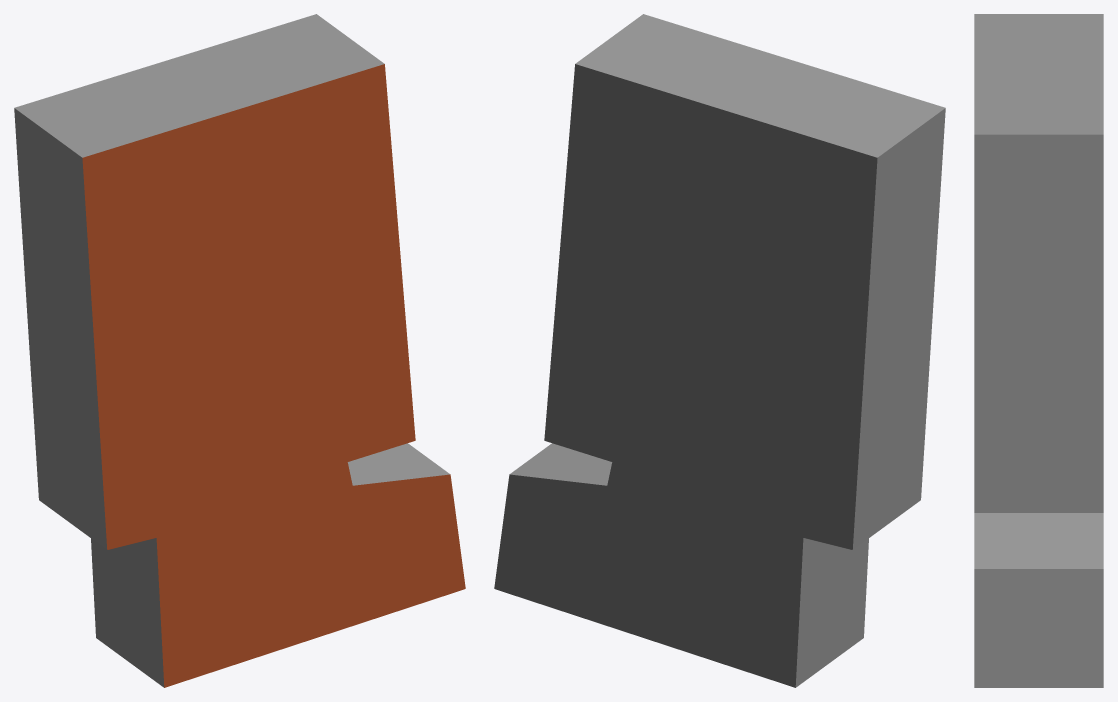
Rendered from construction_5592_assumed_A_Casa_h6m.obj.
3 renders of one model, left to right at view 1: azimuth 30°, elevation 25°; view 2: azimuth 150°, elevation 25°; view 3: azimuth 270°, elevation 25°, orthographic. The views are drawn at different scales.
Parts seen in each view (by area): view 1: construction_5592_assumed_A_Casa; view 2: construction_5592_assumed_A_Casa; view 3: construction_5592_assumed_A_Casa.
Part boxes in pixels (x1=…): construction_5592_assumed_A_Casa: x1=14, y1=14, x2=465, y2=687; construction_5592_assumed_A_Casa: x1=494, y1=14, x2=945, y2=687; construction_5592_assumed_A_Casa: x1=974, y1=14, x2=1103, y2=687.
Bounding box in the file's own units: 19.45 × 27.65 × 6.
